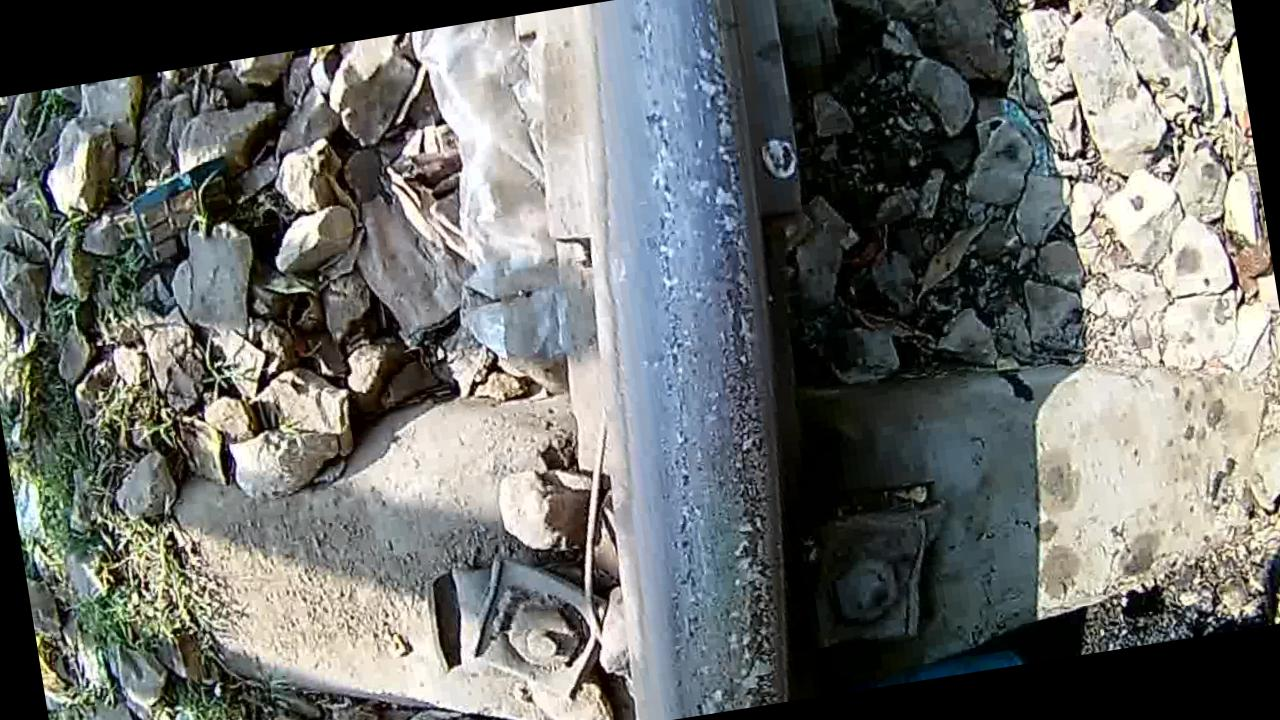clip_missing: (539, 0, 837, 720)
